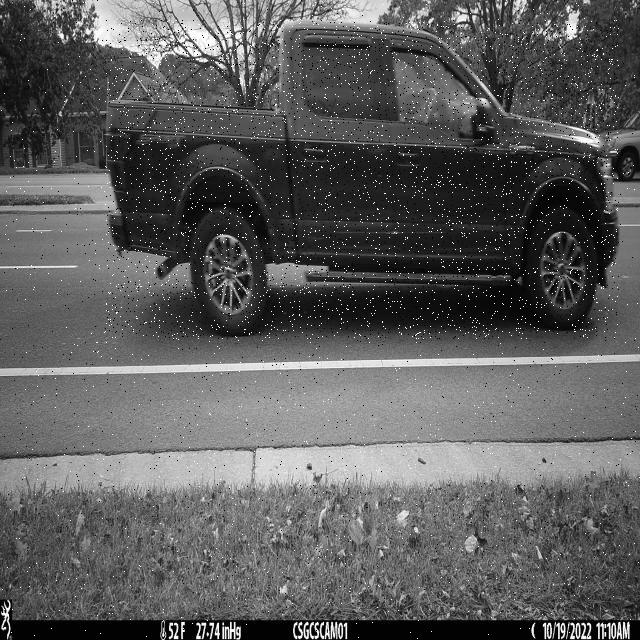Pickup: (105, 20, 619, 339)
